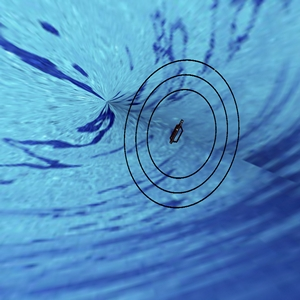circle: (115, 40, 246, 225)
submarine: (165, 115, 188, 153)
